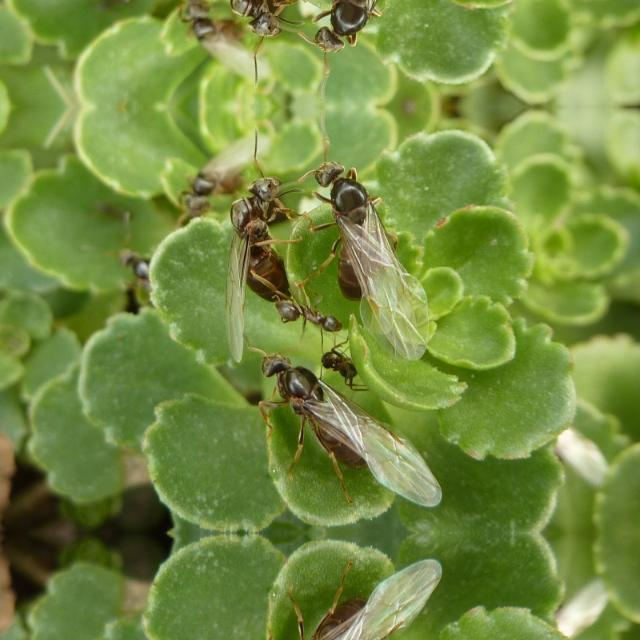Lasius: (246, 342, 442, 502), (297, 128, 439, 334), (195, 136, 318, 362), (246, 560, 442, 640), (297, 0, 439, 82), (195, 0, 318, 76), (90, 224, 170, 300), (266, 286, 368, 336), (314, 332, 386, 396), (170, 158, 252, 214), (170, 0, 250, 54)
